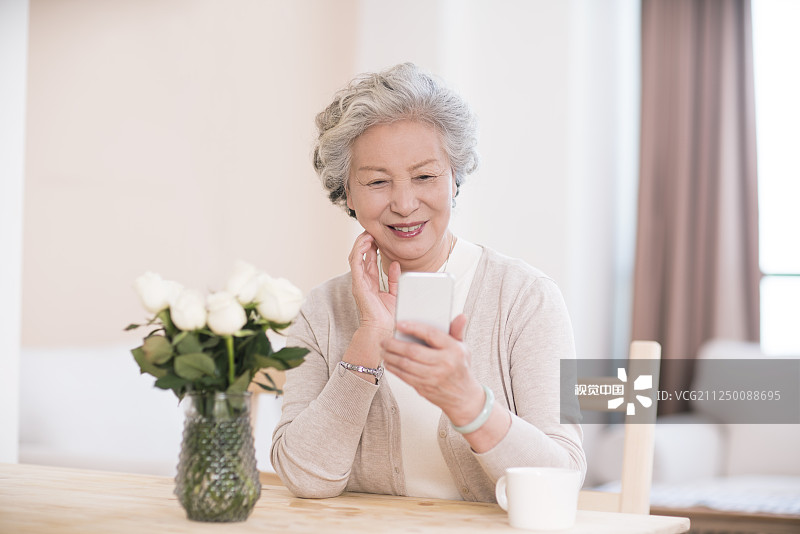no-phone: (342, 223, 412, 337)
reading: (379, 271, 480, 428)
